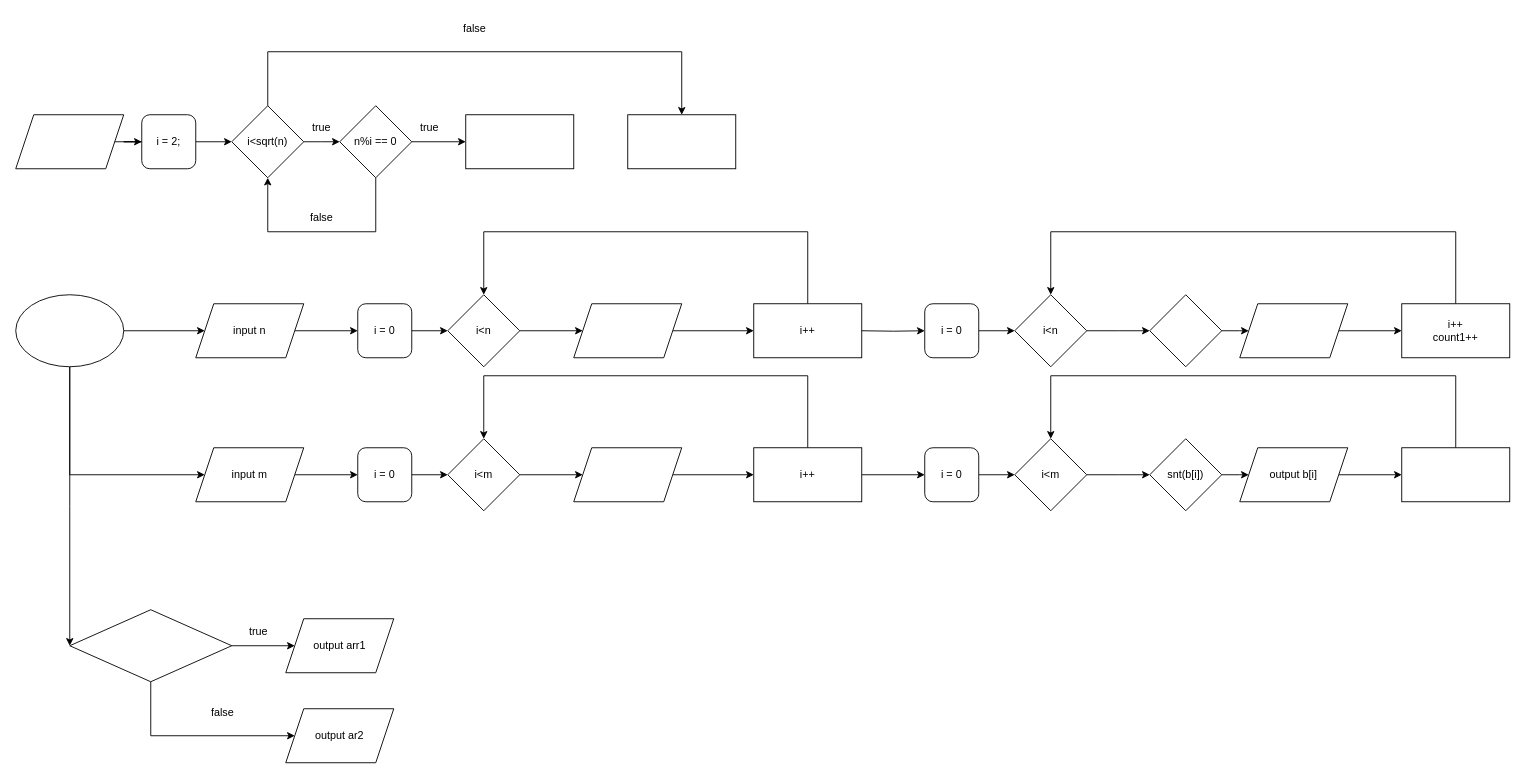
Some shapes in this 1526 by 779 pixel diagram are drawn without their labels. Each missing label, with the box of its shape:
count1 > count2: (69, 609, 232, 682)
i++ count2++: (1401, 447, 1510, 502)
input a[i]: (573, 303, 682, 358)
input b[i]: (573, 447, 682, 502)
output a[i]: (1239, 303, 1348, 358)
return false;: (465, 114, 574, 169)
return true: (627, 114, 736, 169)
snt(a): (15, 114, 124, 169)
snt(a[i]): (1149, 294, 1222, 367)
start: (15, 294, 124, 367)
